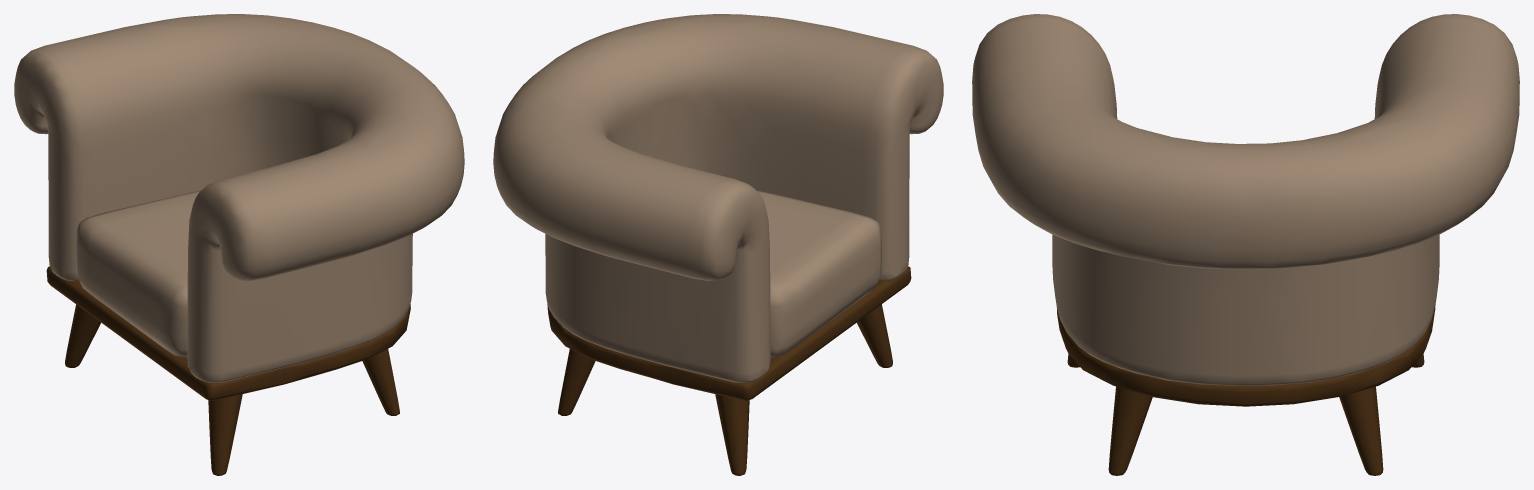
File: armchair_09_brown.fbx
3 renders of one model, left to right at view 1: azimuth 30°, elevation 25°; view 2: azimuth 150°, elevation 25°; view 3: azimuth 270°, elevation 25°, orthographic. The views are drawn at different scales.
Visible parts, largest first — view 1: armchair_09_brown; view 2: armchair_09_brown; view 3: armchair_09_brown.
Part boxes in pixels (bbox=[...]): armchair_09_brown: bbox=[14, 14, 464, 475]; armchair_09_brown: bbox=[493, 14, 943, 475]; armchair_09_brown: bbox=[972, 14, 1519, 475].
Size of the model in its own units: 106 by 102 by 145.
Materials: 2 (2 with a texture image).
